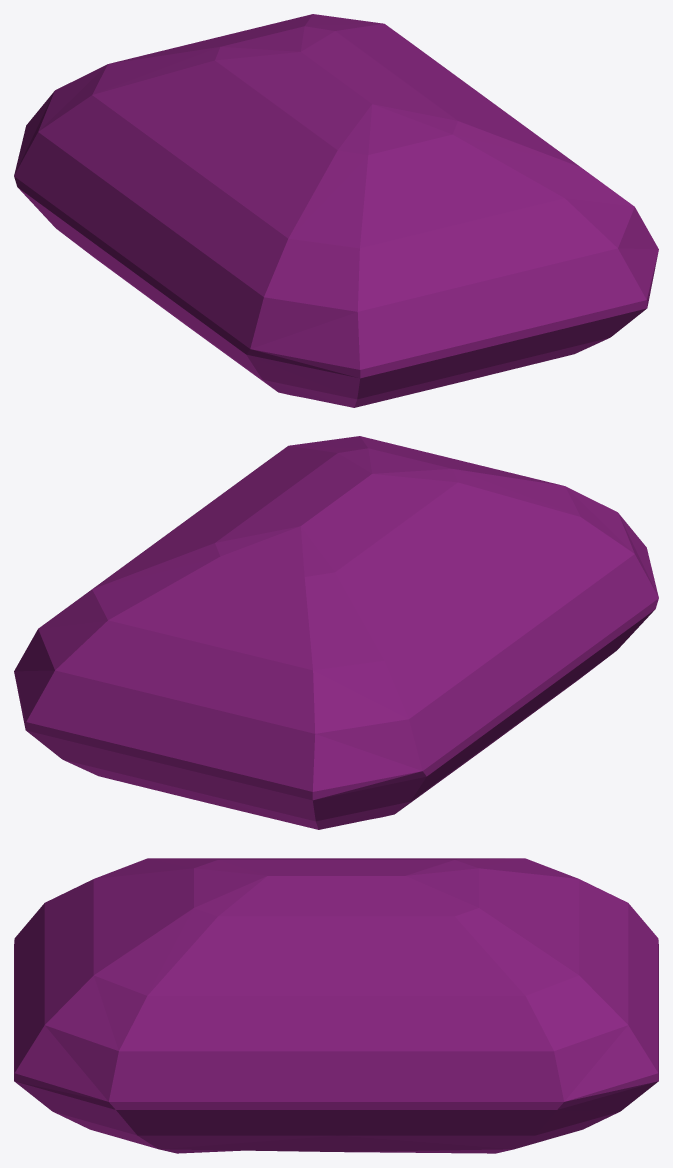
File: Gem003.fbx
The picture shows the model from 3 angles, top to bottom: view 1: azimuth 30°, elevation 25°; view 2: azimuth 150°, elevation 25°; view 3: azimuth 270°, elevation 25°; orthographic projection. The views are drawn at different scales.
Visible parts, largest first — view 1: Gem003; view 2: Gem003; view 3: Gem003.
Boxes of the visible parts, <box> form: Gem003: <box>14,14,658,407</box>; Gem003: <box>14,436,658,829</box>; Gem003: <box>14,858,658,1153</box>.
Bounding box in the file's own units: 173 × 93 × 245.
